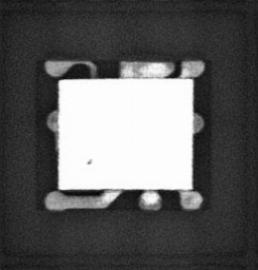DIE_INK: (86, 156, 94, 165)
